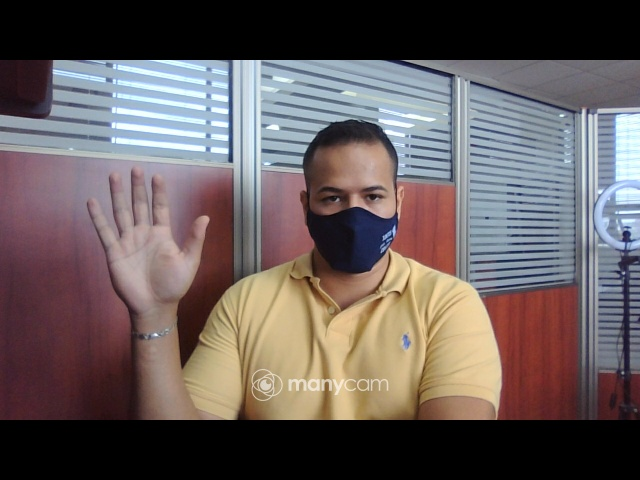Hello: (84, 163, 212, 332)
